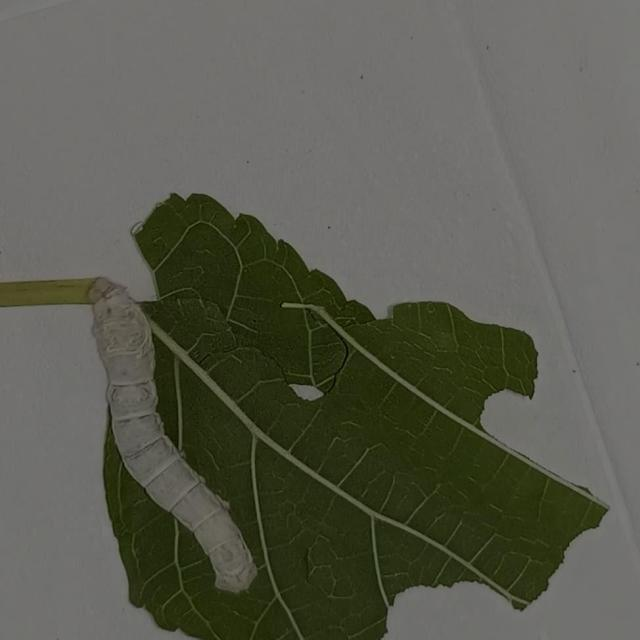Healthy: (68, 268, 280, 610)
